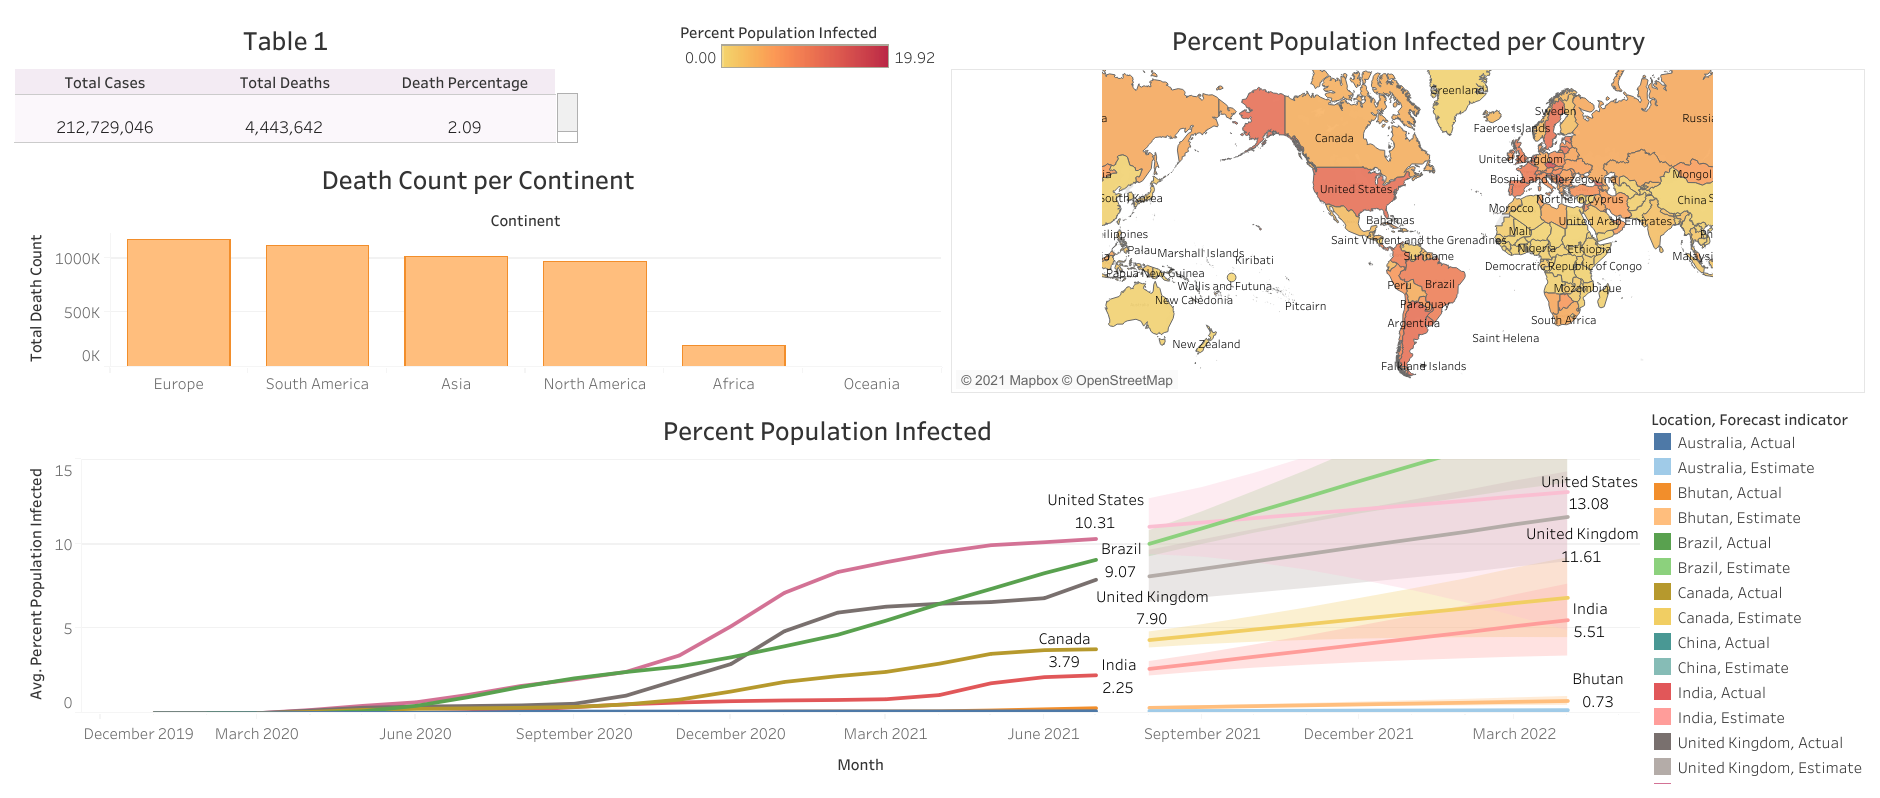

The dashboard page shown, as its layout file describes it:
{"tool":"tableau","page":{"name":"Dashboard 1","canvas":[1000,1000],"units":"permille","ordinal":0},"visuals":[{"type":"worksheet","title":"Sheet 1","mark":"Automatic","box":[4.8,9.3,353.7,174.2]},{"type":"legend","title":"Sheet 3","param":"[federated.01yzehm0x30e9j1bos4pj0j8jxl4].[sum:PercentPopulationInfected:qk]","box":[358.5,9.3,144.5,174.2]},{"type":"worksheet","title":"Sheet 3","mark":"Automatic","box":[503,9.3,492.2,490.7]},{"type":"worksheet","title":"Sheet 2","mark":"Automatic","rows":["TotalDeathCount"],"cols":["location"],"box":[4.8,183.5,498.2,316.5]},{"type":"worksheet","title":"Sheet 4","mark":"Automatic","rows":["PercentPopulationInfected"],"cols":["date"],"box":[4.8,500,870.1,490.7]},{"type":"legend","title":"Sheet 4","param":"[federated.079nuc411w4twd1gd5n07192ckho].[none:Location:nk]\n[federated.079nuc411","box":[874.9,500,120.2,490.7]}]}

Visuals, with their boxes on the dashboard's canvas, which has no fixed pixel size, in thousandths of its width and height (x1, y1, x2, y2). These are canvas units, not pixel positions in the 1880x798 screenshot, which may show the page scaled, cropped or inside an application window:
"Sheet 1" worksheet: bbox(5, 9, 358, 184)
"Sheet 3" legend: bbox(358, 9, 503, 184)
"Sheet 3" worksheet: bbox(503, 9, 995, 500)
"Sheet 2" worksheet: bbox(5, 184, 503, 500)
"Sheet 4" worksheet: bbox(5, 500, 875, 991)
"Sheet 4" legend: bbox(875, 500, 995, 991)
